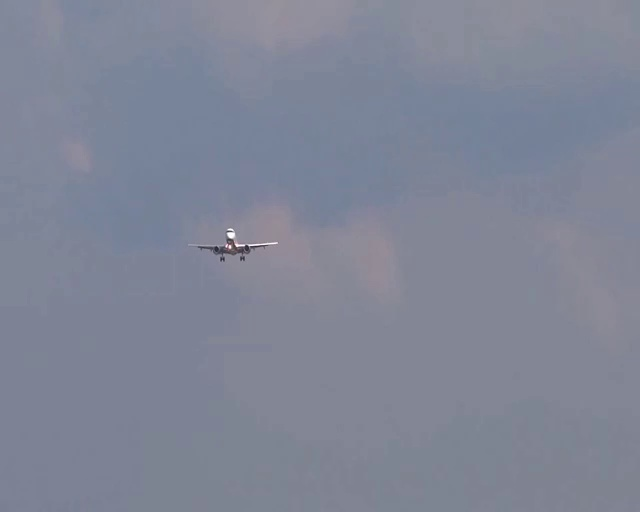AIRPLANE: (190, 228, 278, 262)
